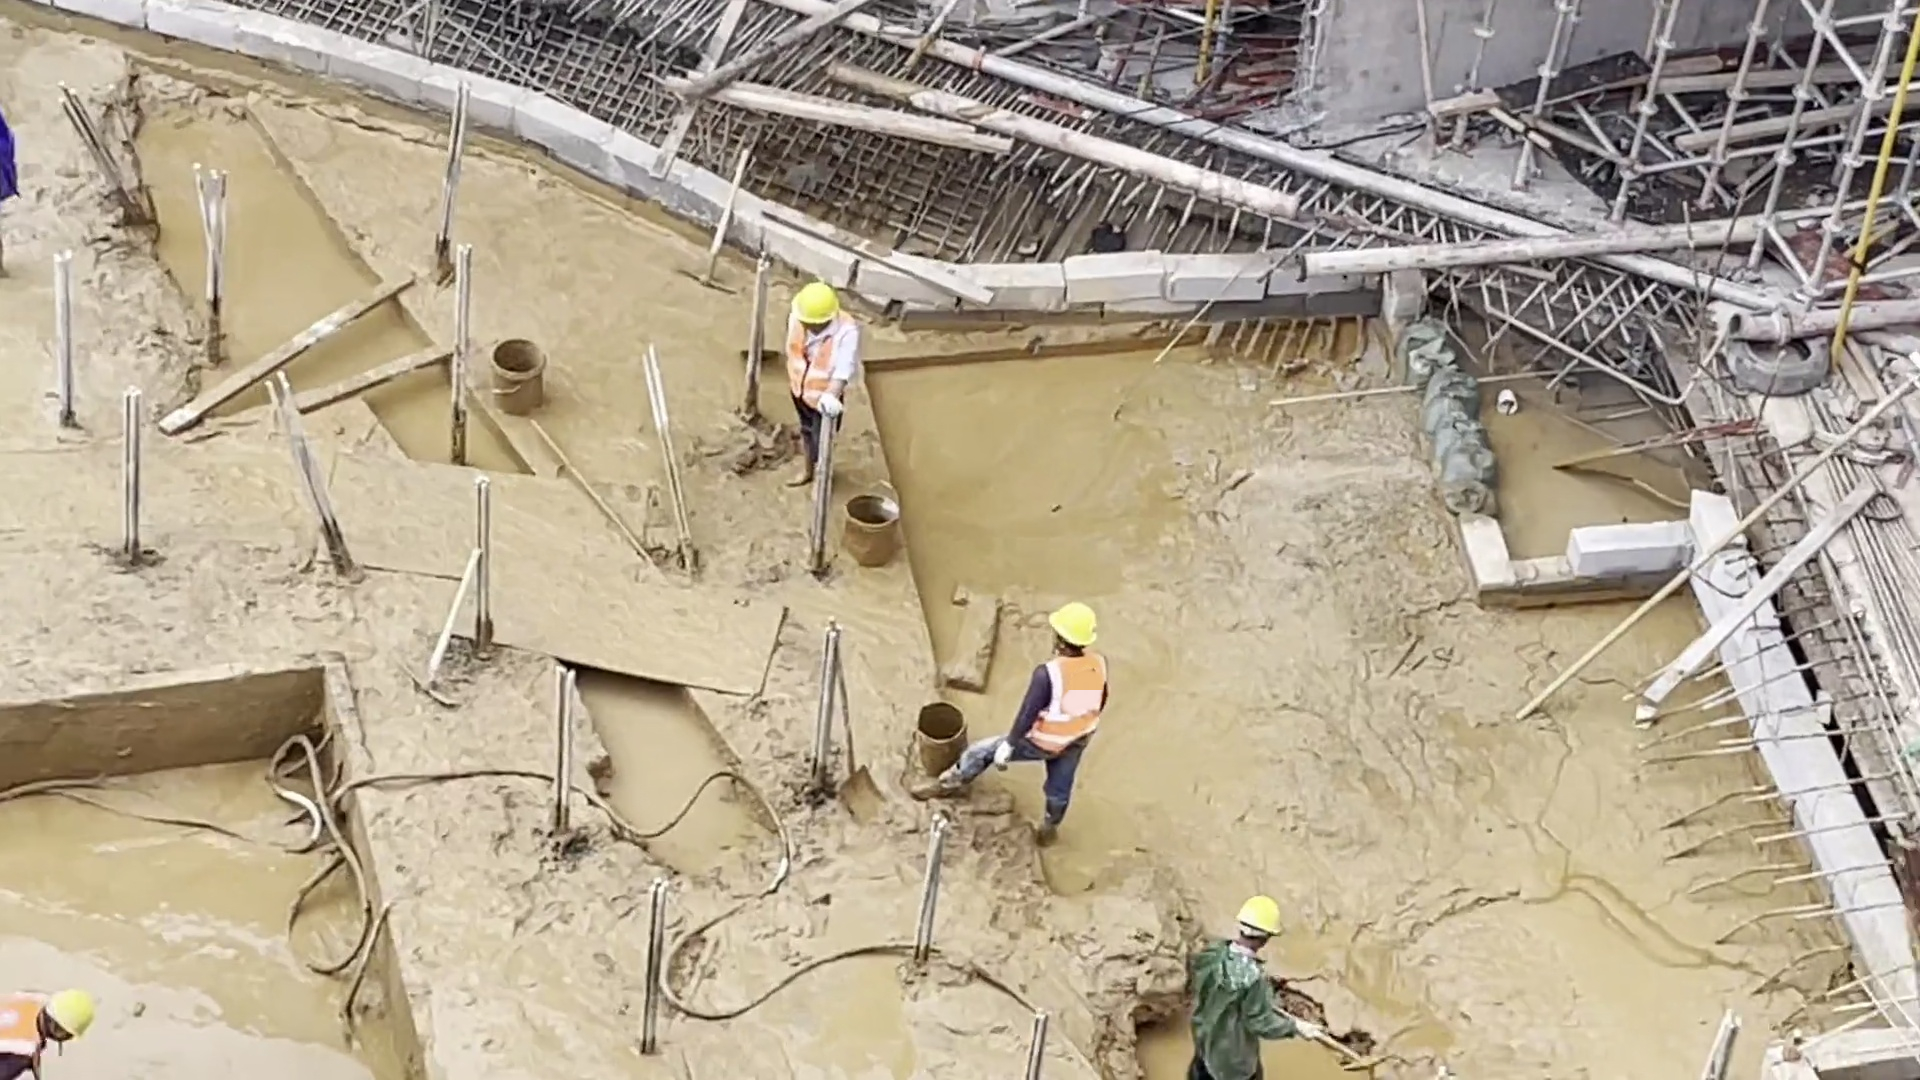helmet: (49, 991, 104, 1037), (1052, 597, 1099, 646), (797, 282, 840, 332), (1238, 897, 1286, 938)
person: (909, 601, 1106, 842), (1179, 895, 1286, 1080), (773, 278, 858, 490), (1, 986, 100, 1079)
vest: (1036, 656, 1107, 767), (786, 331, 847, 420)
